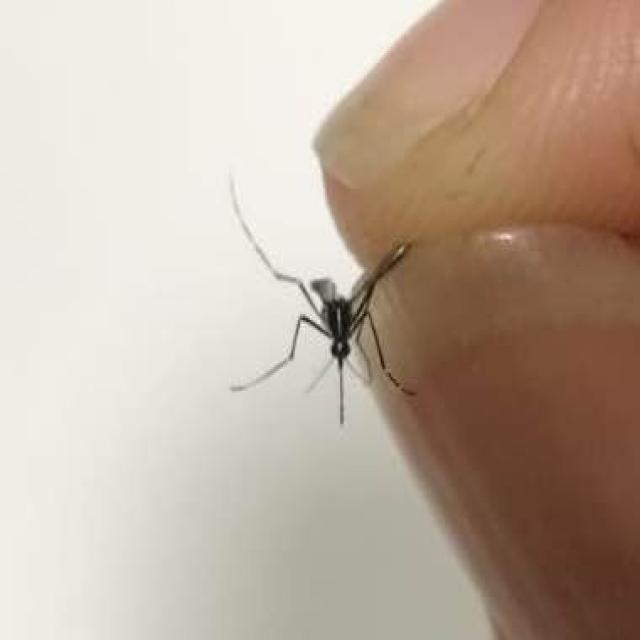albopictus: (214, 165, 431, 434)
